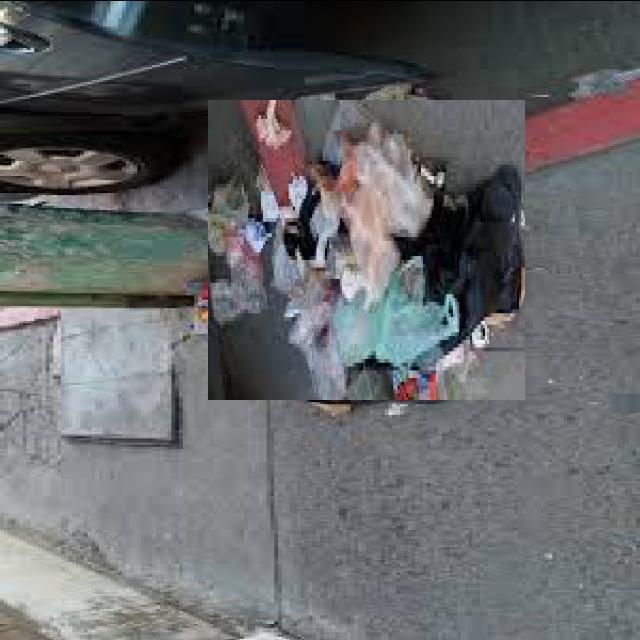Trashbag: (435, 197, 533, 329)
